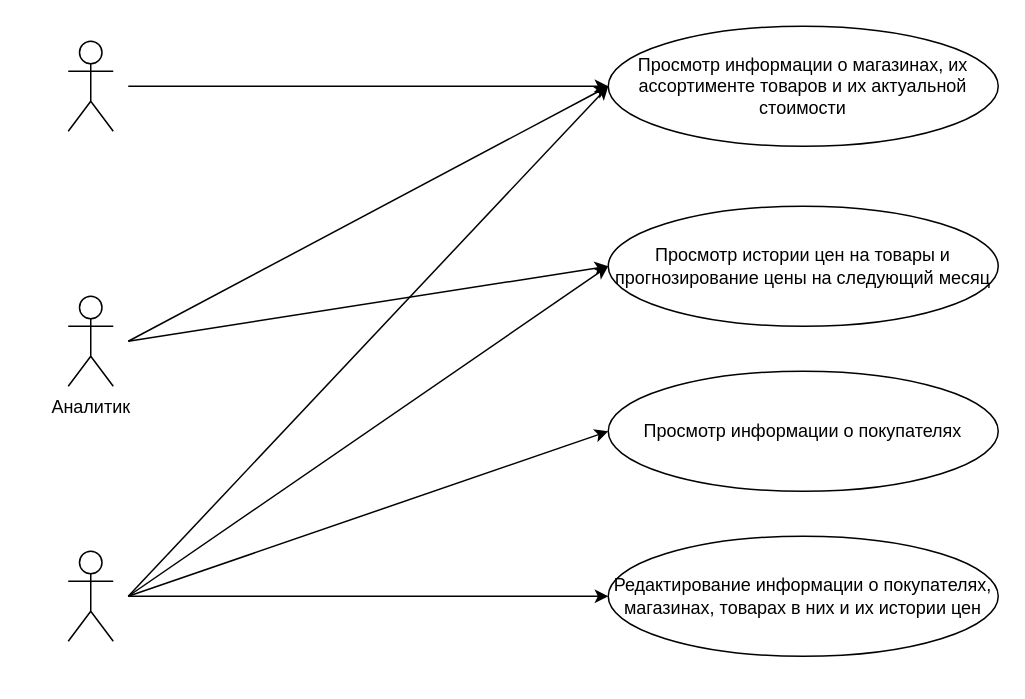
Some shapes in this 1025 by 699 pixel diagram are drawn without their labels. Here are the shapes that lost their labels. From the top down, the box of each, then its label:
(67, 40, 113, 131): Пользователь
(67, 550, 113, 641): Администратор
